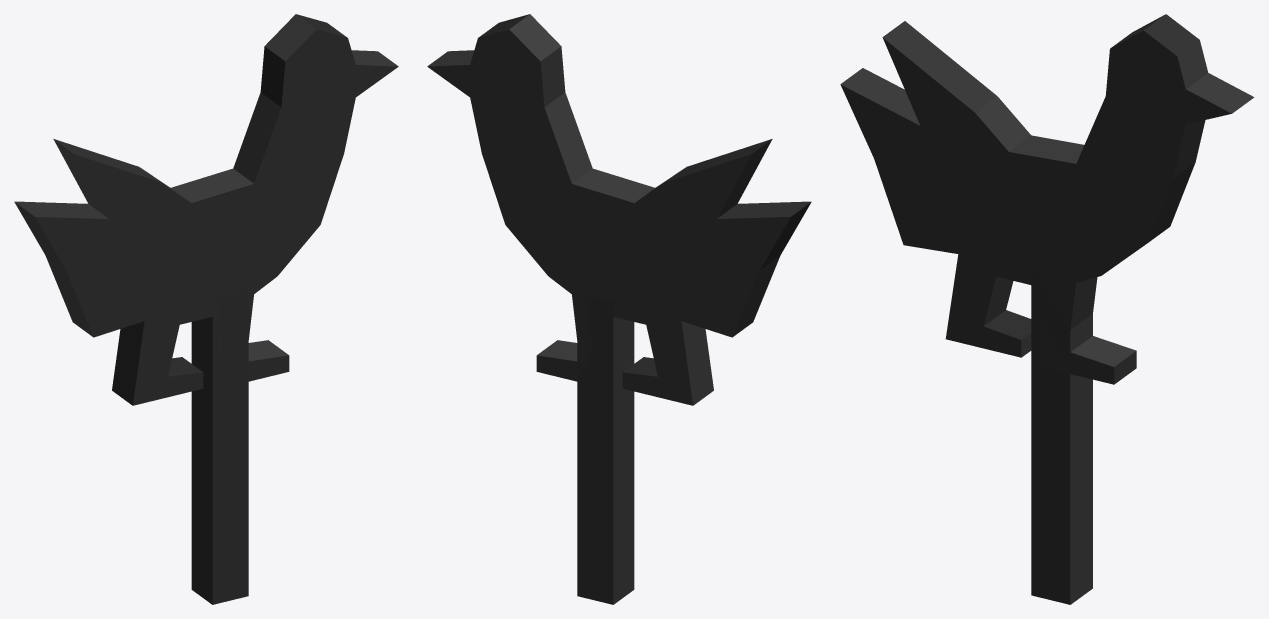
Rendered from ChickenCoop_Mobile_WeatherVane_Optional.fbx.
The picture shows the model from 3 angles, left to right: view 1: azimuth 30°, elevation 25°; view 2: azimuth 150°, elevation 25°; view 3: azimuth 330°, elevation 25°; orthographic projection. The views are drawn at different scales.
Parts seen in each view (by area): view 1: Coop_Mobile_Optional_WeatherVane; view 2: Coop_Mobile_Optional_WeatherVane; view 3: Coop_Mobile_Optional_WeatherVane.
Boxes of the visible parts, x1,y1,x2,y2 form: Coop_Mobile_Optional_WeatherVane: (14,14,398,604); Coop_Mobile_Optional_WeatherVane: (427,14,811,604); Coop_Mobile_Optional_WeatherVane: (840,14,1254,604).
Bounding box in the file's own units: 0.2511 × 0.3628 × 0.025.
